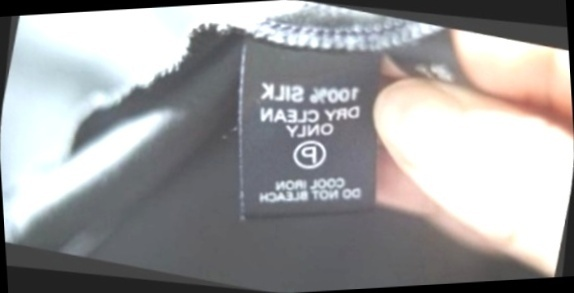dry_clean_any_solvent_except_trichloroethylene: (284, 130, 334, 177)
